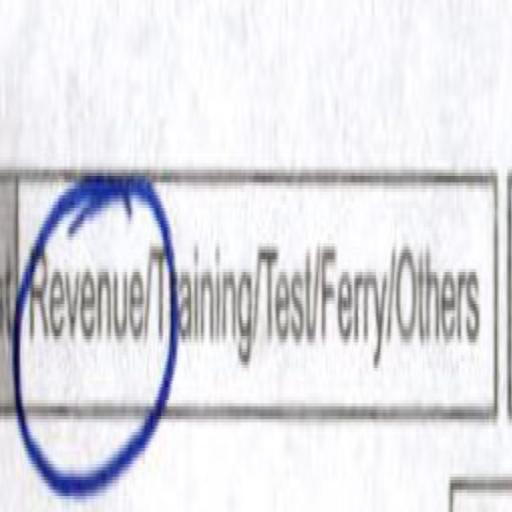check: (20, 140, 144, 512)
